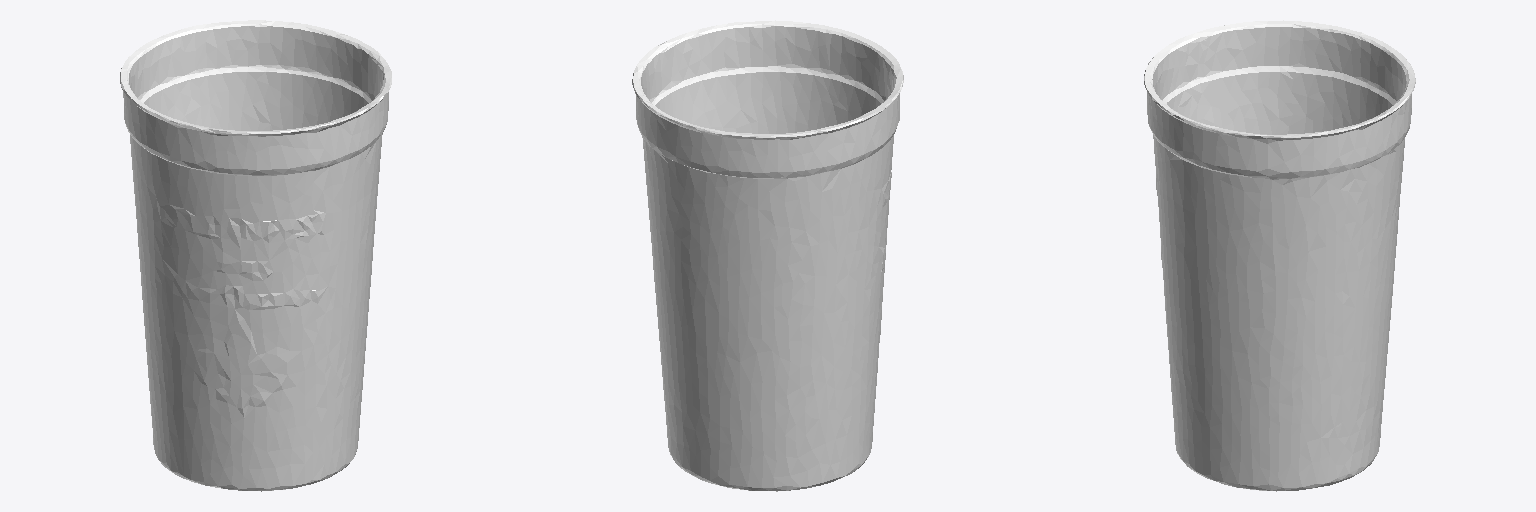
URDF robot description (cube.urdf):
<?xml version="0.0" ?>
<robot name="cube.urdf">
    <link name="baseLink">
        <contact>
            <lateral_friction value="1.5"/>
            <inertia_scaling value="3.0"/>
        </contact>
        <inertial>
            <origin rpy="0 0 0" xyz="-0.01 0 0.02"/>
            <mass value=".1"/>
            <inertia ixx="1" ixy="0" ixz="0" iyy="1" iyz="0" izz="1"/>
        </inertial>
        <visual>
            <origin rpy="0 0 0" xyz="0 0 0"/>
            <geometry>
                <mesh filename="Cup/solid.stl" scale="1 1 1"/>
            </geometry>
            <material name="white">
                <color rgba="1 1 1 1"/>
            </material>
        </visual>
        <collision>
            <origin rpy="0 0 0" xyz="0 0 0"/>
            <geometry>
                <mesh filename="Cup/cup_vhacd.obj" scale="1 1 1"/>
            </geometry>
        </collision>
    </link>
</robot>

--- Facts derived from the render (not from the file) ---
Views: 3 orthographic renders of the robot side by side, from view 1: azimuth 30°, elevation 25°; view 2: azimuth 150°, elevation 25°; view 3: azimuth 270°, elevation 25°.
Robot: cube.urdf — 1 links, 0 joints (none); root link baseLink; default pose: all joints at 0.
Links seen in each view (by area): view 1: baseLink; view 2: baseLink; view 3: baseLink.
Boxes of the visible links, x1=… form: baseLink: x1=120, y1=20, x2=391, y2=491; baseLink: x1=632, y1=20, x2=903, y2=491; baseLink: x1=1144, y1=20, x2=1415, y2=491.
Bounding box of the posed robot: 0.0911 × 0.0911 × 0.1383 m (x, y, z).
1 mesh visuals loaded from 1 distinct referenced files (1 binary STL).